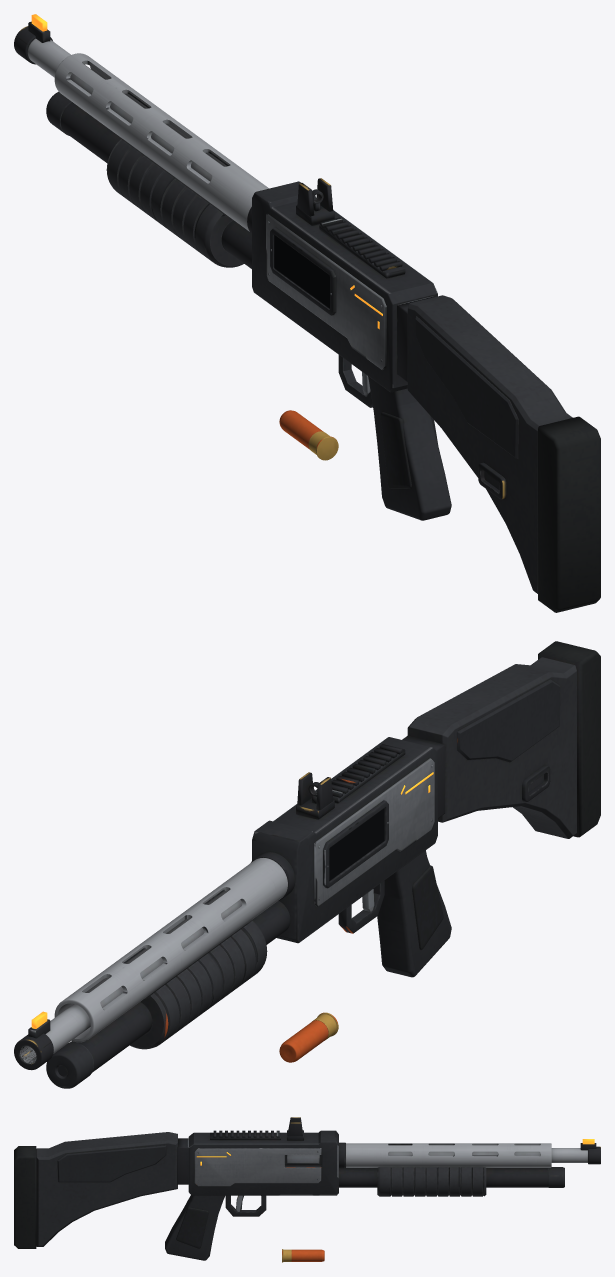
Rendered from shotgun.glb.
The picture shows the model from 3 angles, top to bottom: view 1: azimuth 30°, elevation 25°; view 2: azimuth 150°, elevation 25°; view 3: azimuth 270°, elevation 25°; orthographic projection. The views are drawn at different scales.
Visible parts, largest first — view 1: body, pump, battlestat_screen, shell, battlestat_frame; view 2: body, pump, battlestat_screen, shell, battlestat_frame; view 3: body, pump, shell.
Boxes of the visible parts, x1=… form: body: x1=14, y1=21, x2=600, y2=612; pump: x1=106, y1=139, x2=243, y2=267; battlestat_screen: x1=274, y1=235, x2=329, y2=308; shell: x1=279, y1=410, x2=338, y2=460; battlestat_frame: x1=270, y1=227, x2=336, y2=315; body: x1=14, y1=641, x2=600, y2=1088; pump: x1=130, y1=921, x2=267, y2=1049; battlestat_screen: x1=329, y1=808, x2=384, y2=880; shell: x1=279, y1=1012, x2=338, y2=1062; battlestat_frame: x1=323, y1=800, x2=388, y2=888; body: x1=14, y1=1117, x2=600, y2=1260; pump: x1=377, y1=1167, x2=486, y2=1196; shell: x1=282, y1=1249, x2=324, y2=1262.
Bounding box in the file's own units: 0.0636 × 0.2587 × 0.9711.
Materials: 3 (1 with a texture image).
